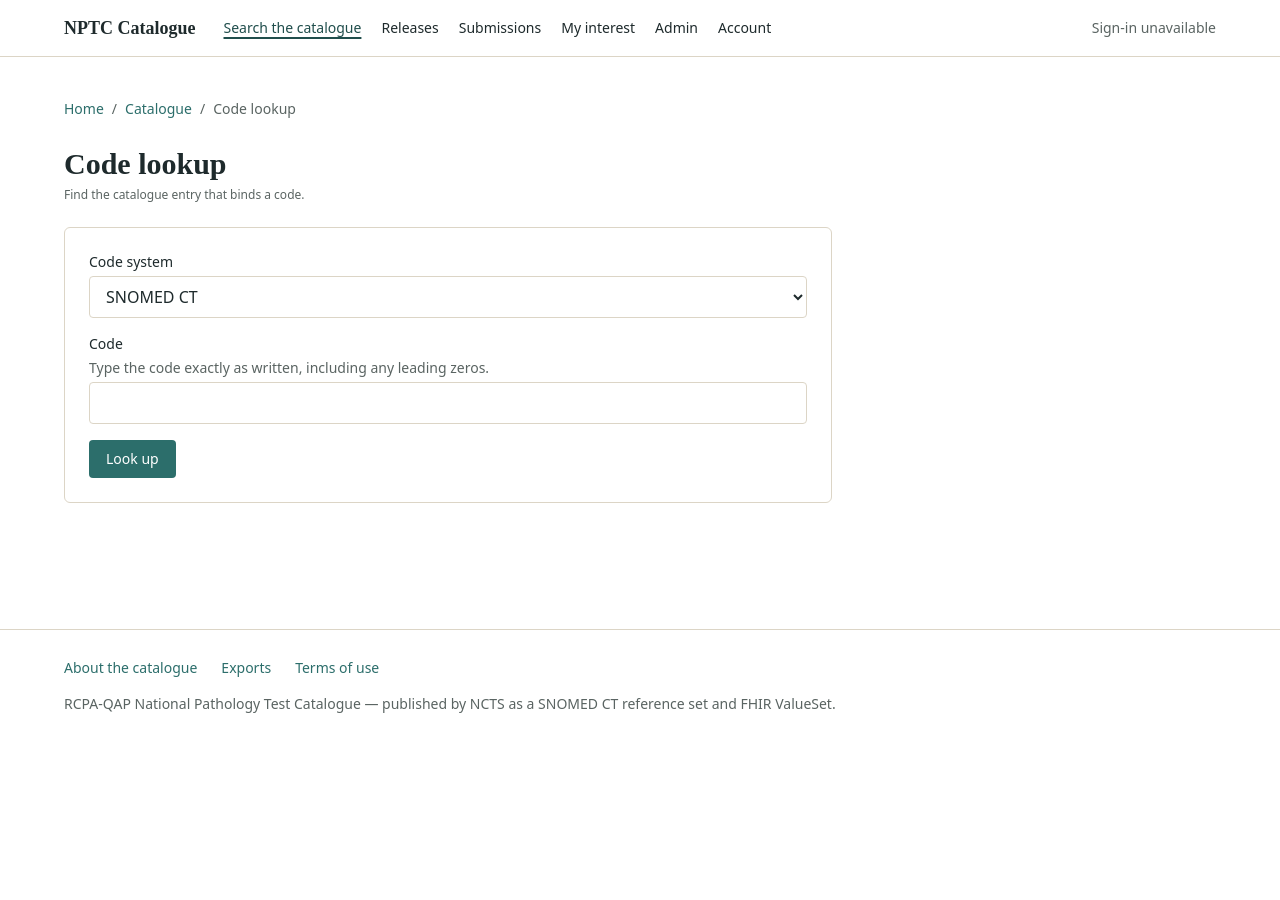
Test: submitting a code › goes to the code route with the leading zeros kept
Step 1. Type "000123" into the field labelled "Code" → (448, 402), box [89, 382, 807, 424]
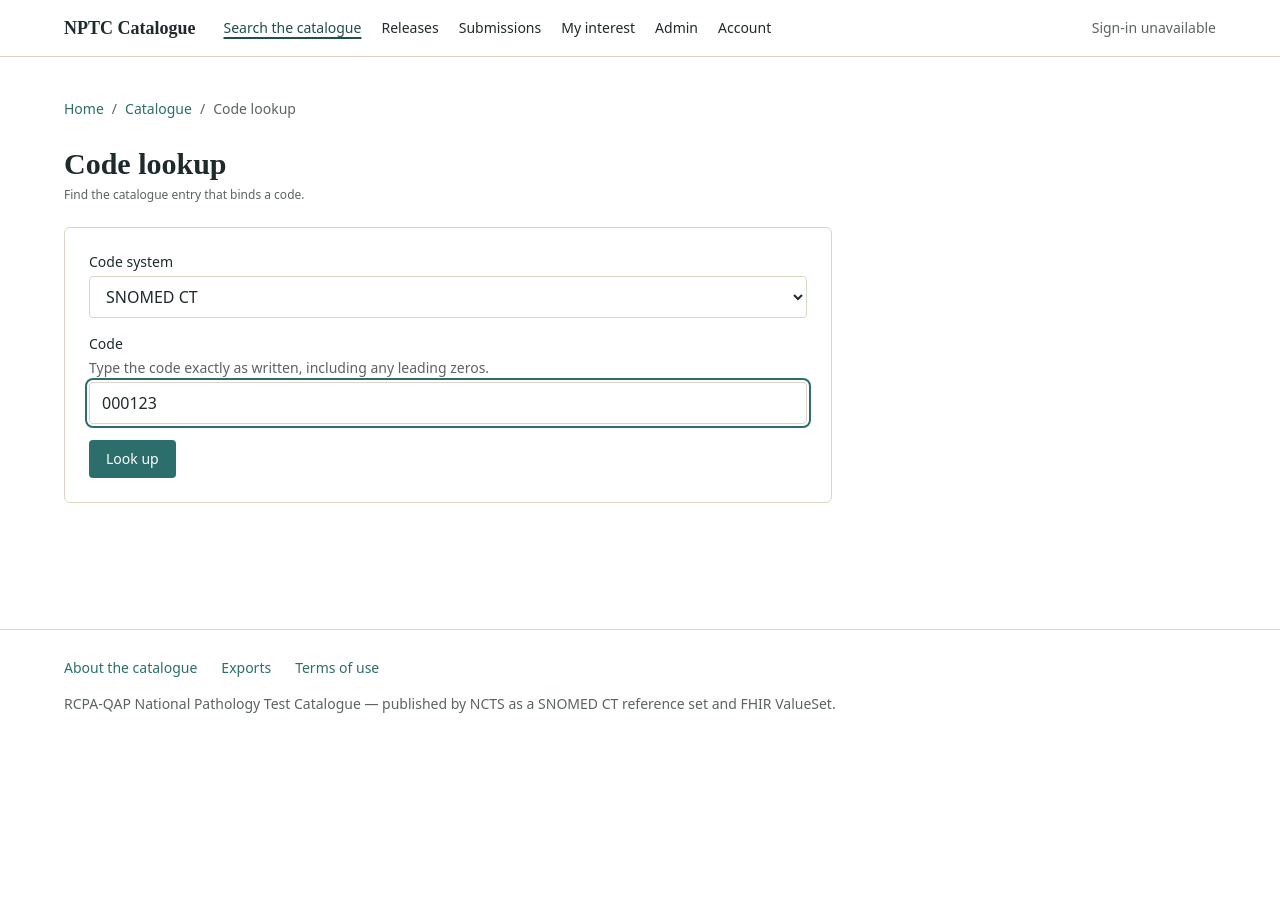
Step 2. Click the button "Look up" → (132, 458), box [89, 440, 176, 478]
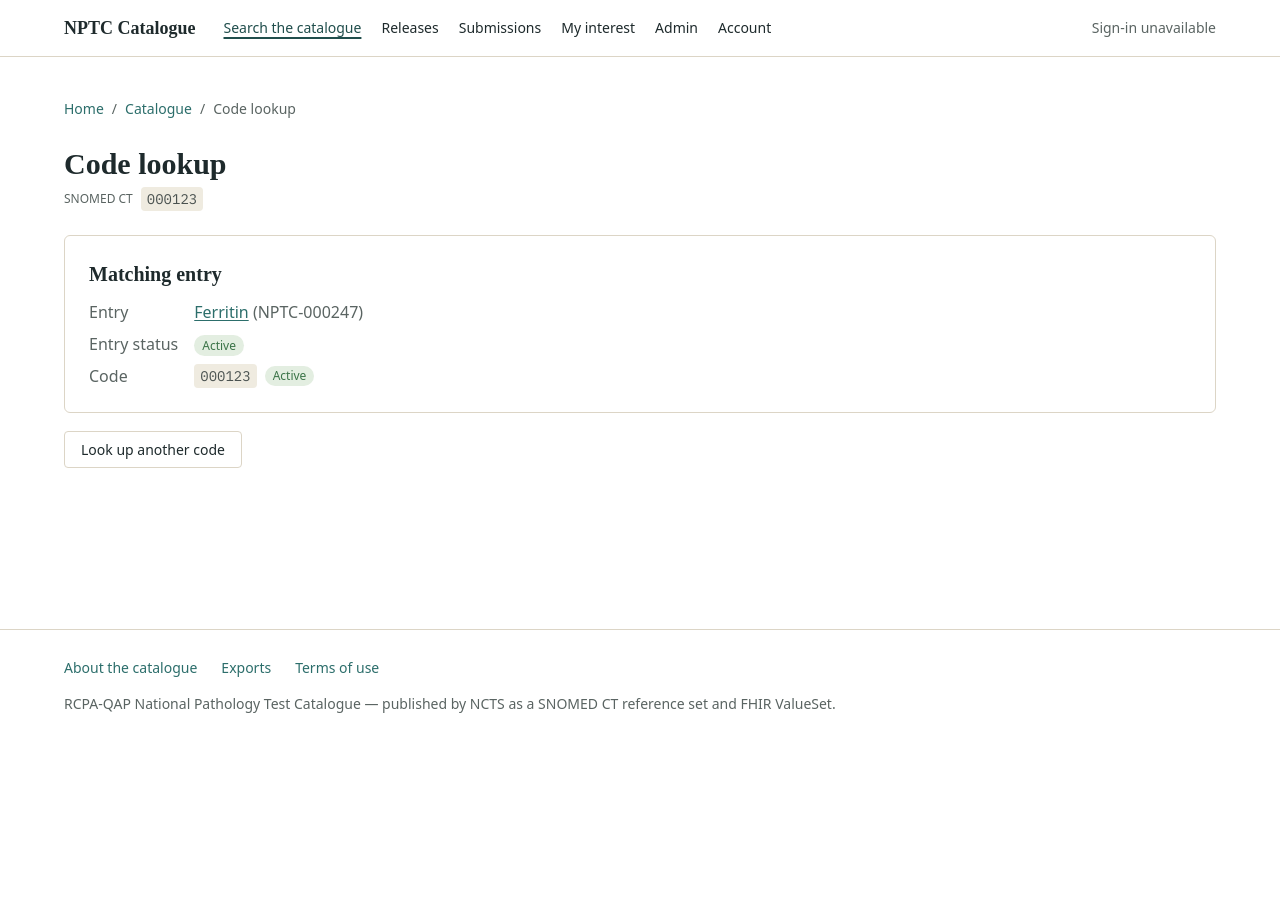
Result: the element "Matching entry" shows "Ferritin" at [194, 300, 249, 324]
